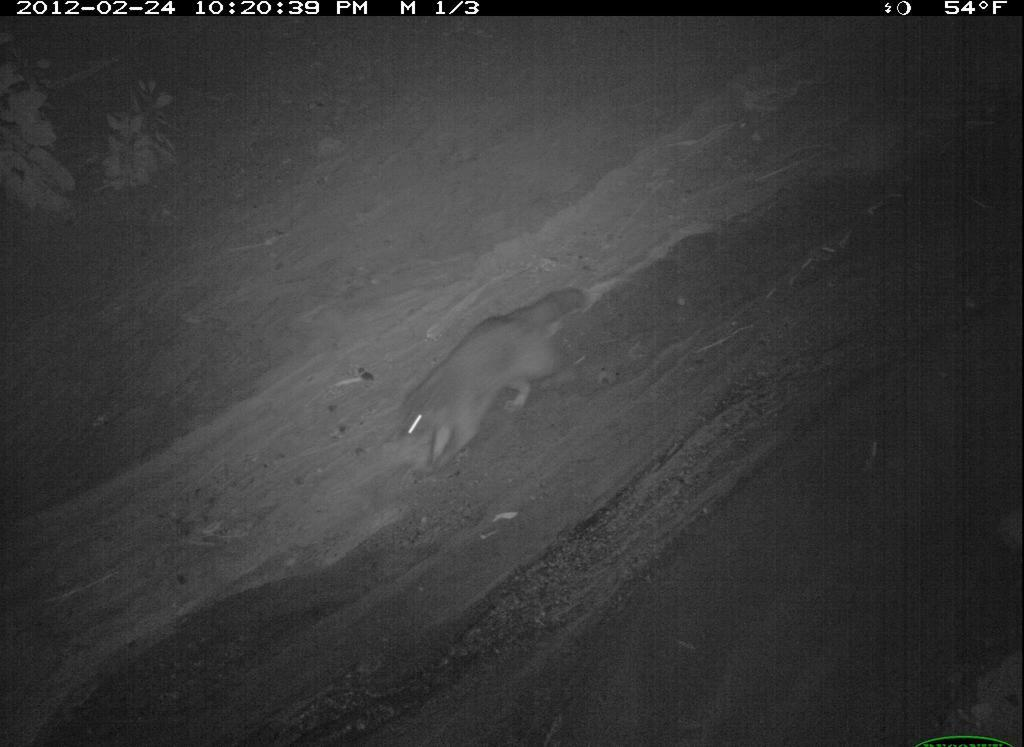raccoon: (779, 563, 1024, 747)
